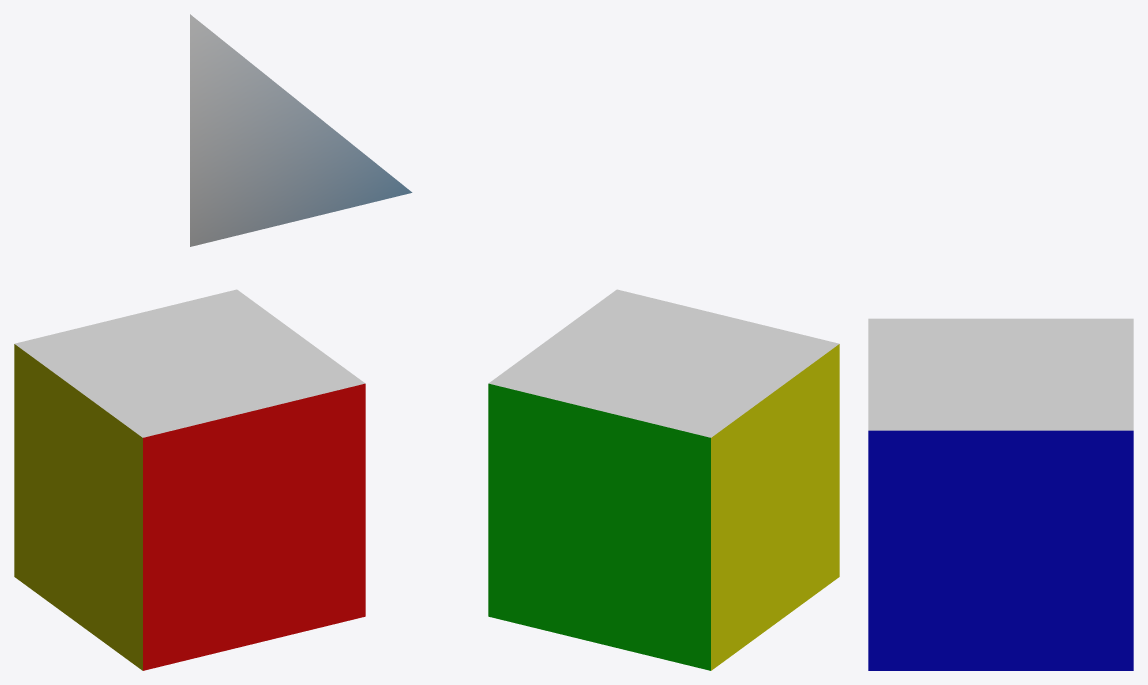
Rendered from farben.glb.
3 renders of one model, left to right at view 1: azimuth 30°, elevation 25°; view 2: azimuth 150°, elevation 25°; view 3: azimuth 270°, elevation 25°, orthographic. The views are drawn at different scales.
Visible parts, largest first — view 1: Bunt; view 2: Bunt; view 3: Bunt.
Boxes of the visible parts, x1=… form: Bunt: x1=14, y1=14, x2=412, y2=670; Bunt: x1=488, y1=289, x2=839, y2=670; Bunt: x1=868, y1=318, x2=1133, y2=670.
Size of the model in its own units: 1.5 by 2.5 by 1.
